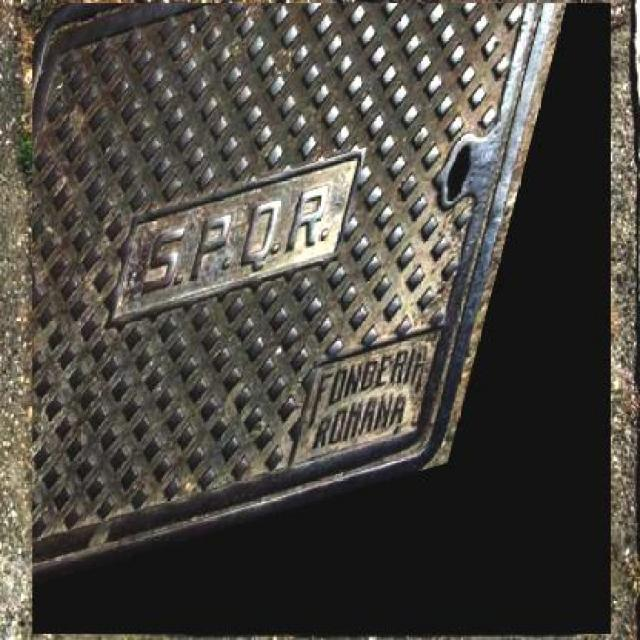Manhole: (32, 3, 611, 634)
